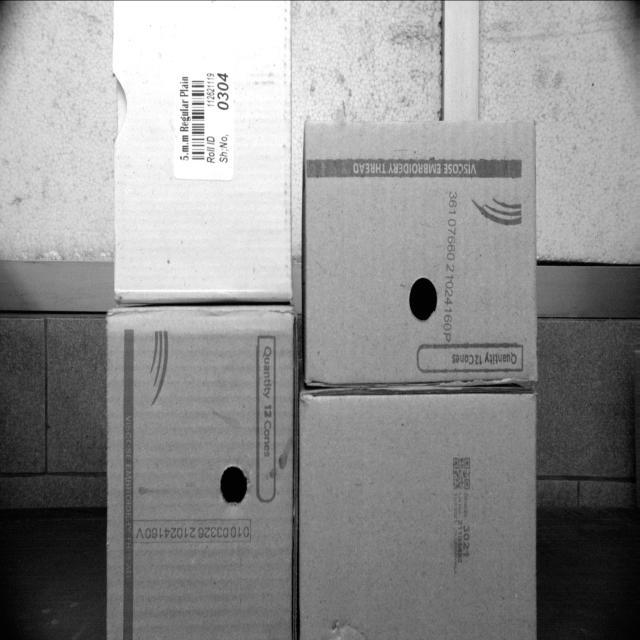box: (103, 302, 294, 640), (308, 125, 536, 382), (305, 396, 538, 640), (109, 0, 293, 298)
